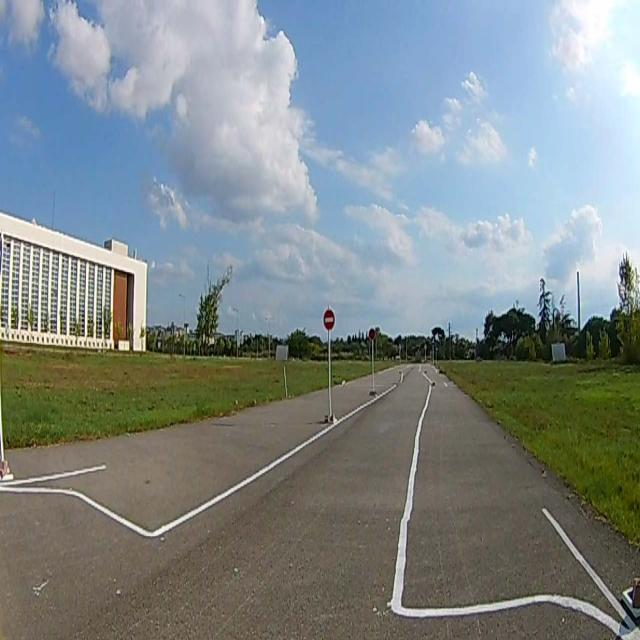girisyok: (324, 309, 334, 331)
